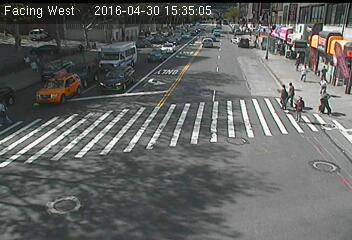neg: (116, 127, 141, 161), (226, 88, 251, 121), (202, 153, 224, 183), (30, 178, 52, 208), (56, 76, 76, 102), (236, 32, 256, 58), (186, 44, 205, 68), (133, 58, 151, 83), (266, 24, 284, 48), (174, 93, 185, 107)
pos: (290, 97, 312, 125), (270, 82, 290, 109), (287, 79, 304, 102), (320, 94, 335, 115), (320, 64, 332, 80), (301, 63, 312, 78), (319, 78, 329, 90)
